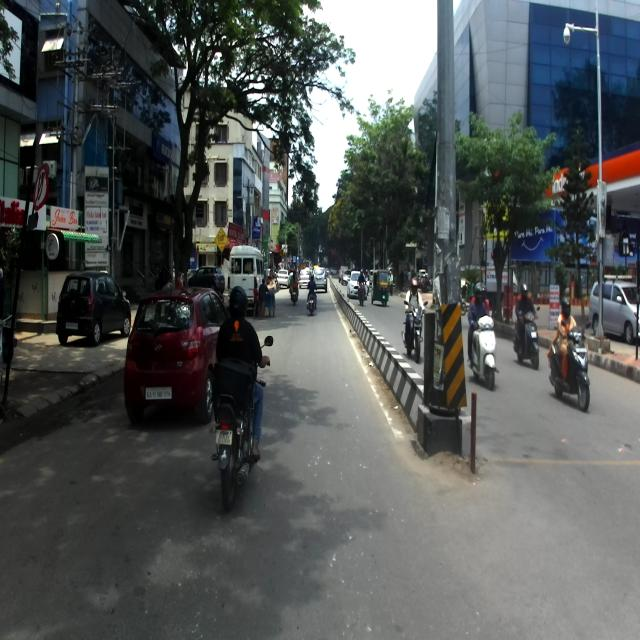car ahead at: (126, 285, 219, 423), (54, 271, 124, 344)
motorcycle ahead at: (208, 394, 256, 508), (551, 299, 592, 415), (469, 276, 497, 388), (514, 279, 542, 372)
